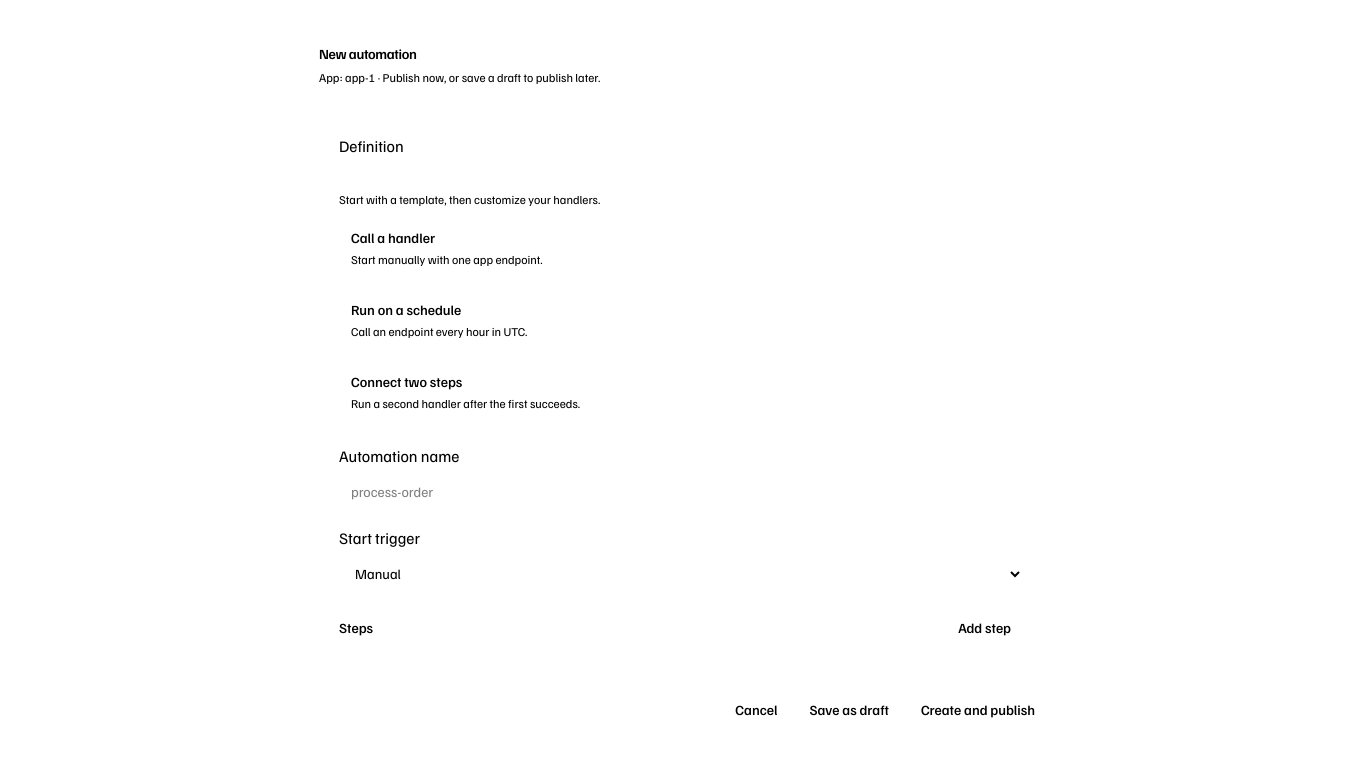
new automation dialog › keeps a failed draft open for correction
Type "orders" into the field labelled "Automation name".
click(681, 492); type("orders")  # box [339,474,1023,510]
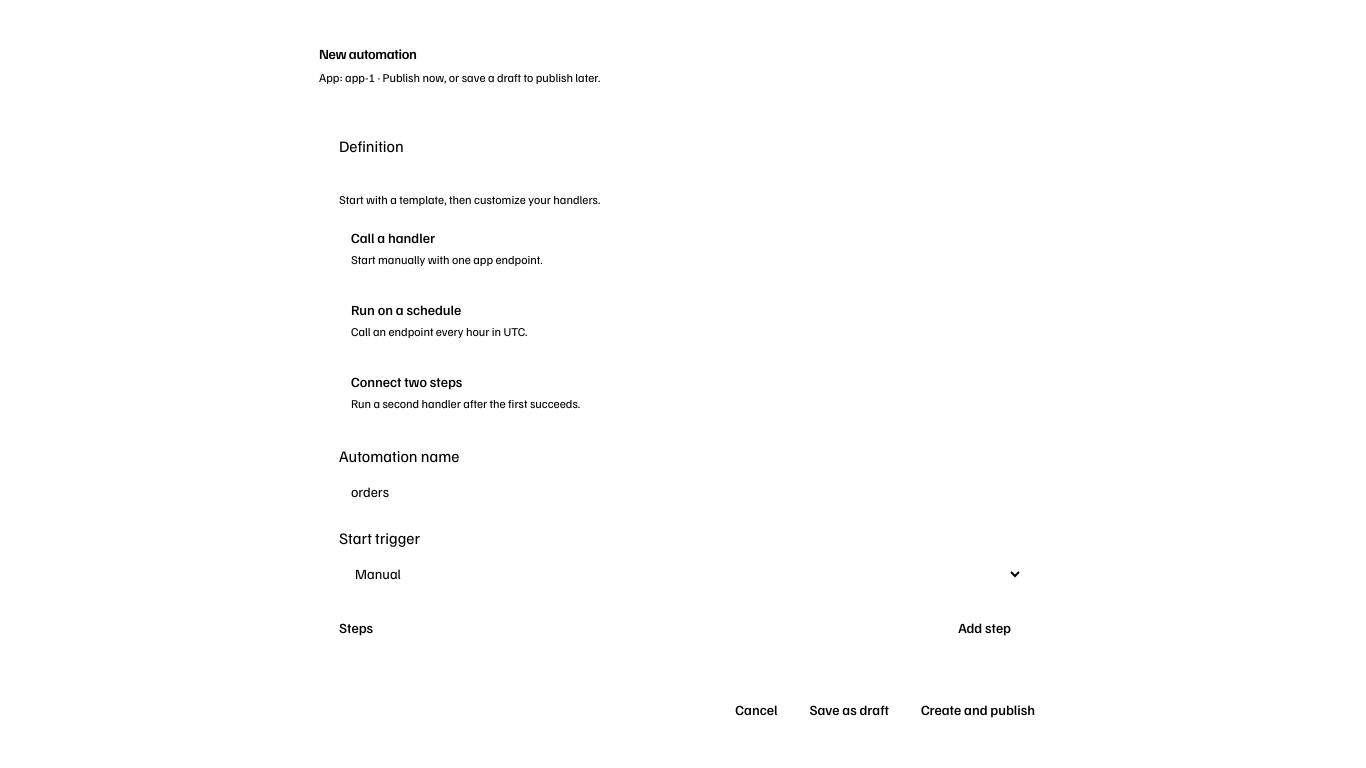
Click the button "Save as draft".
click(849, 710)  # box [797,694,901,726]
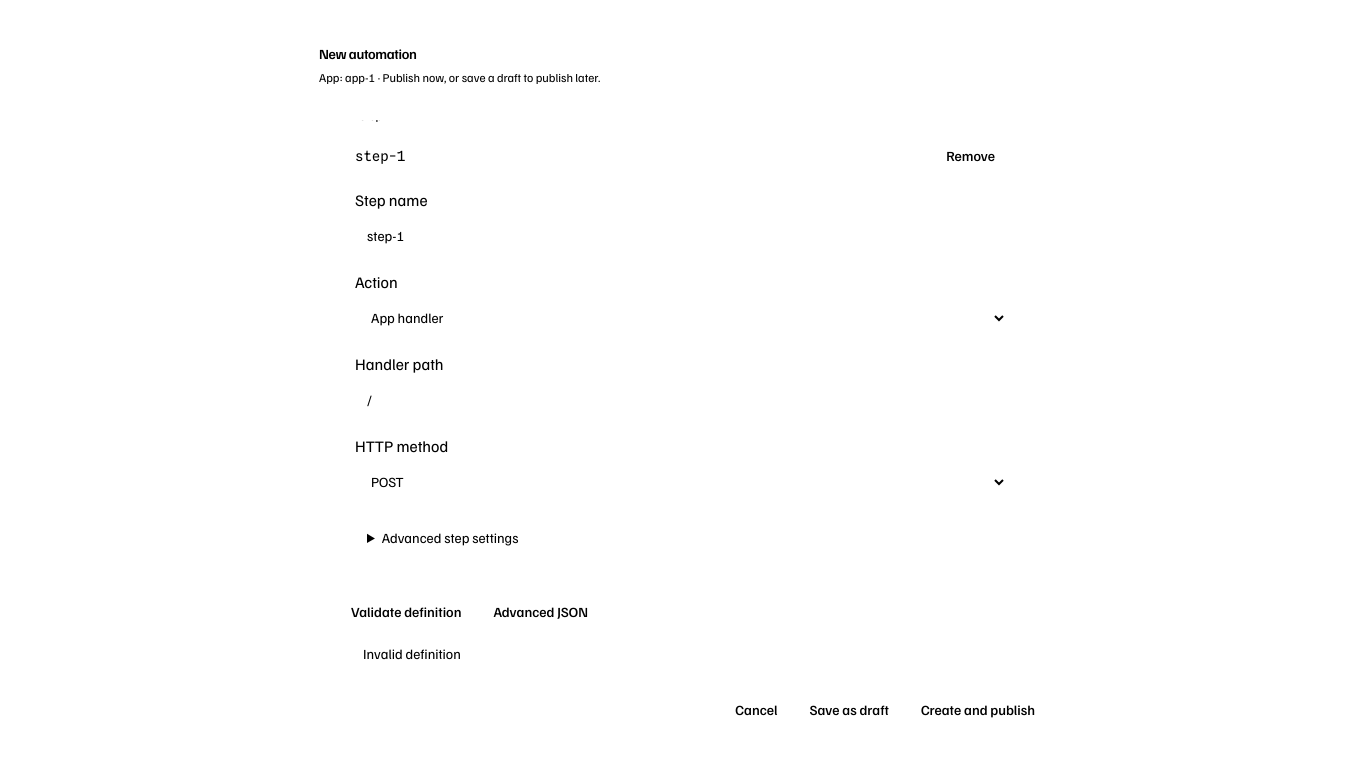
Expected: the dialog "New automation" is shown, [299,28,1067,740]
Result: the message reads "Invalid definition" at [363,645,461,662]
